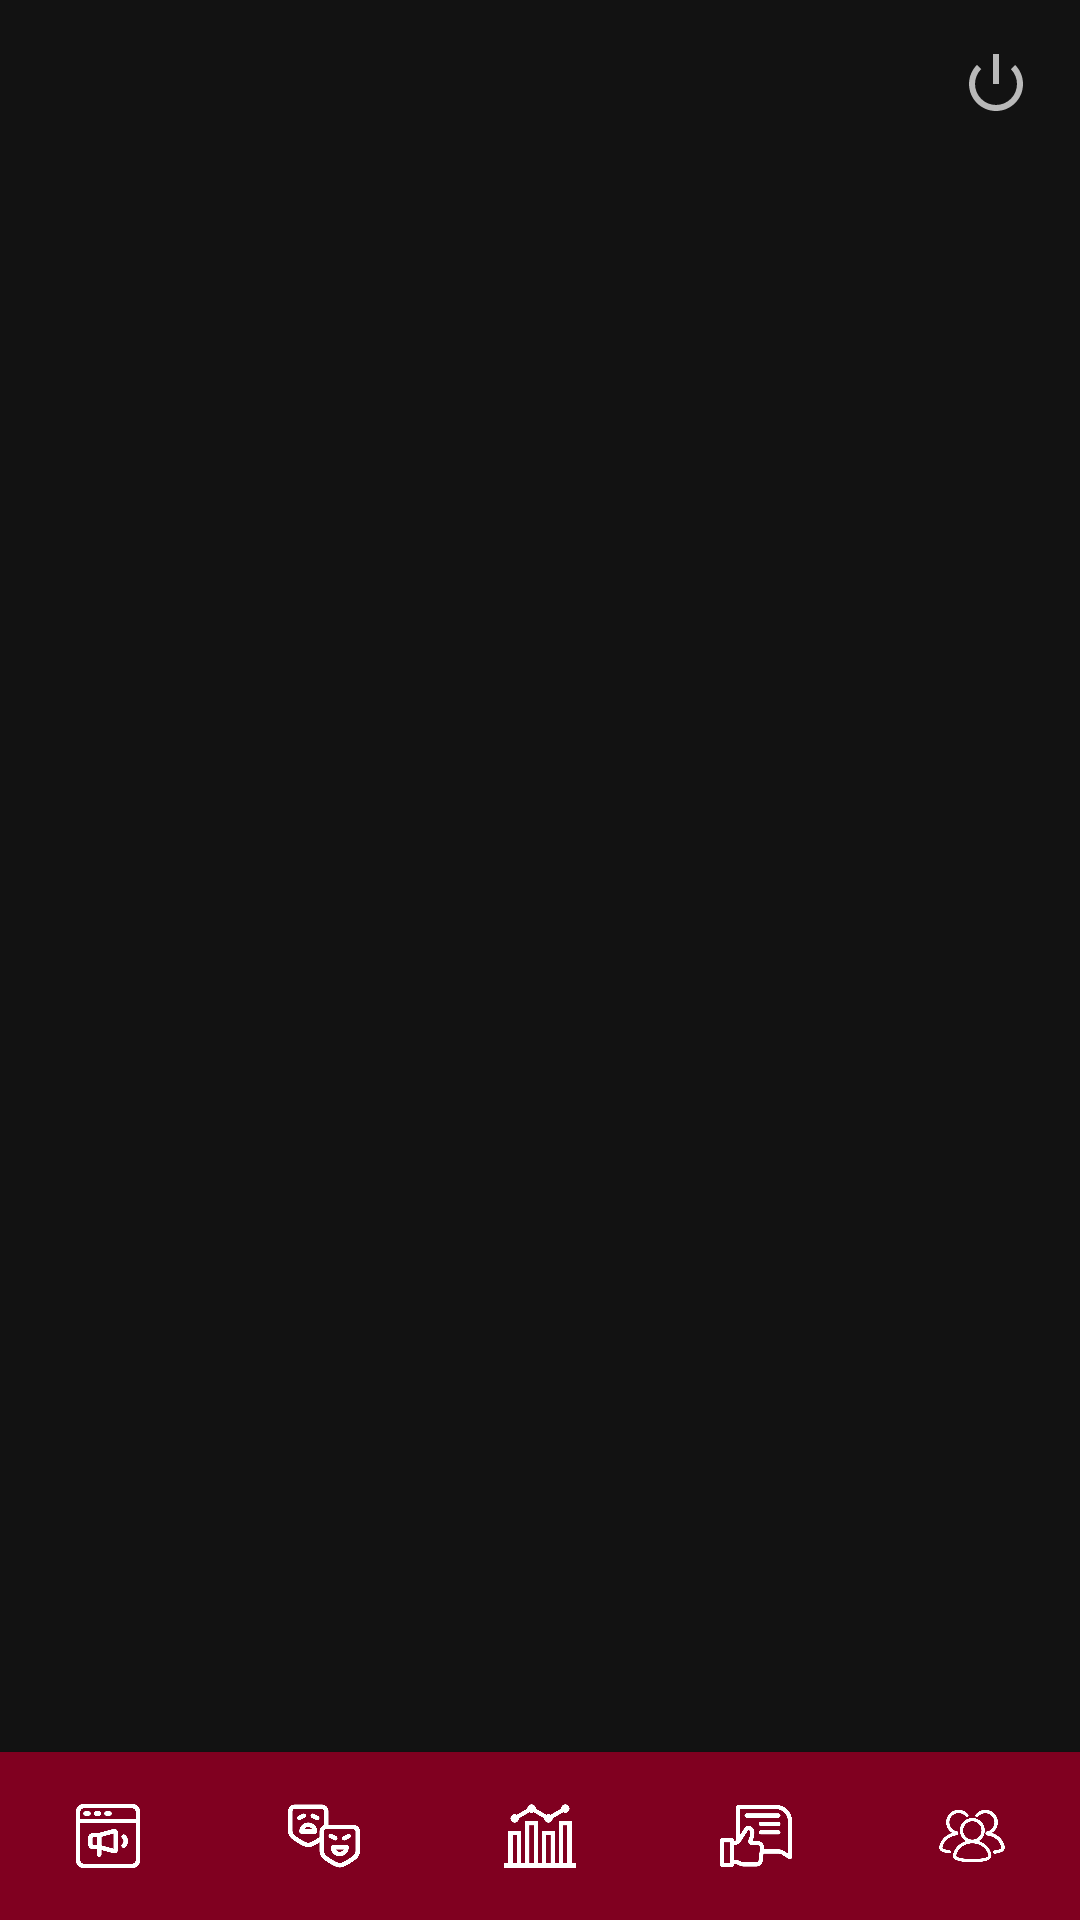

Where to tap for icons on this 1080 × 1920 app screen, as (x,y):
Аналитика: (540,1836)
Выход: (996,82)
Жанры: (324,1836)
Контент: (108,1836)
Отзывы: (756,1836)
Пользователи: (972,1836)
